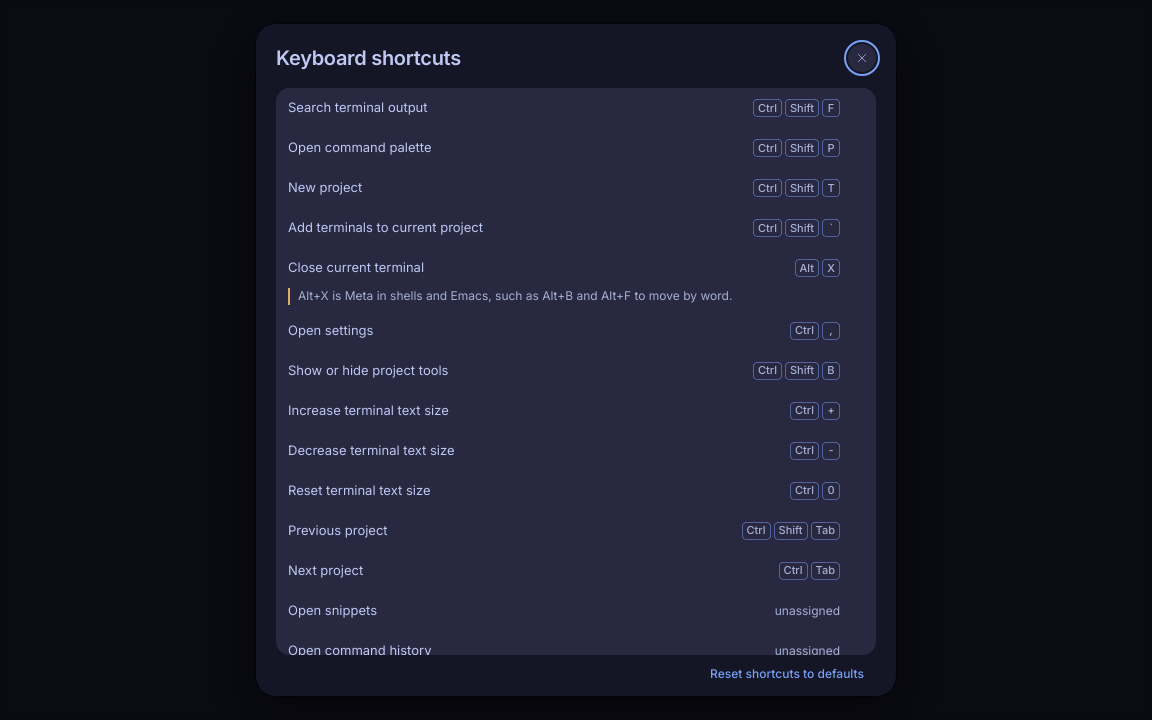
Test case: ShortcutEditor › clears an assigned shortcut with Backspace
Click the button with aria-label "close current terminal (currently Alt+X)".
click(824, 268)  # box [780,254,868,282]
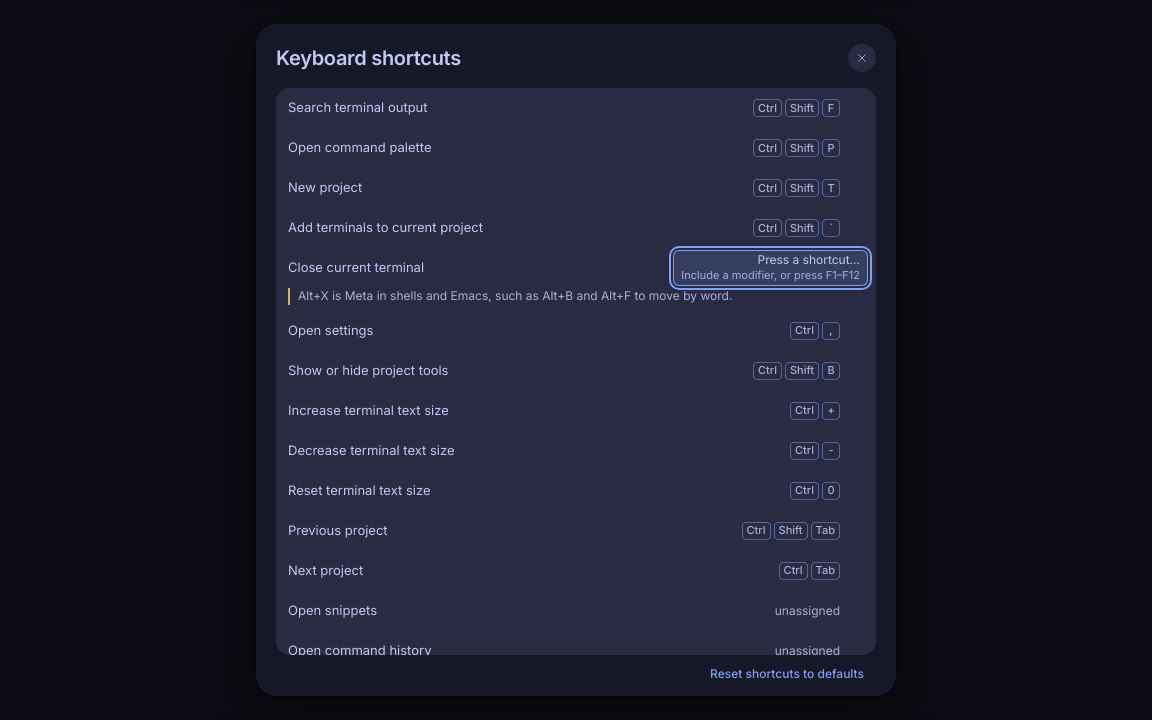
Press Backspace in the field named "press a shortcut for close current terminal", box [673,250,868,286]
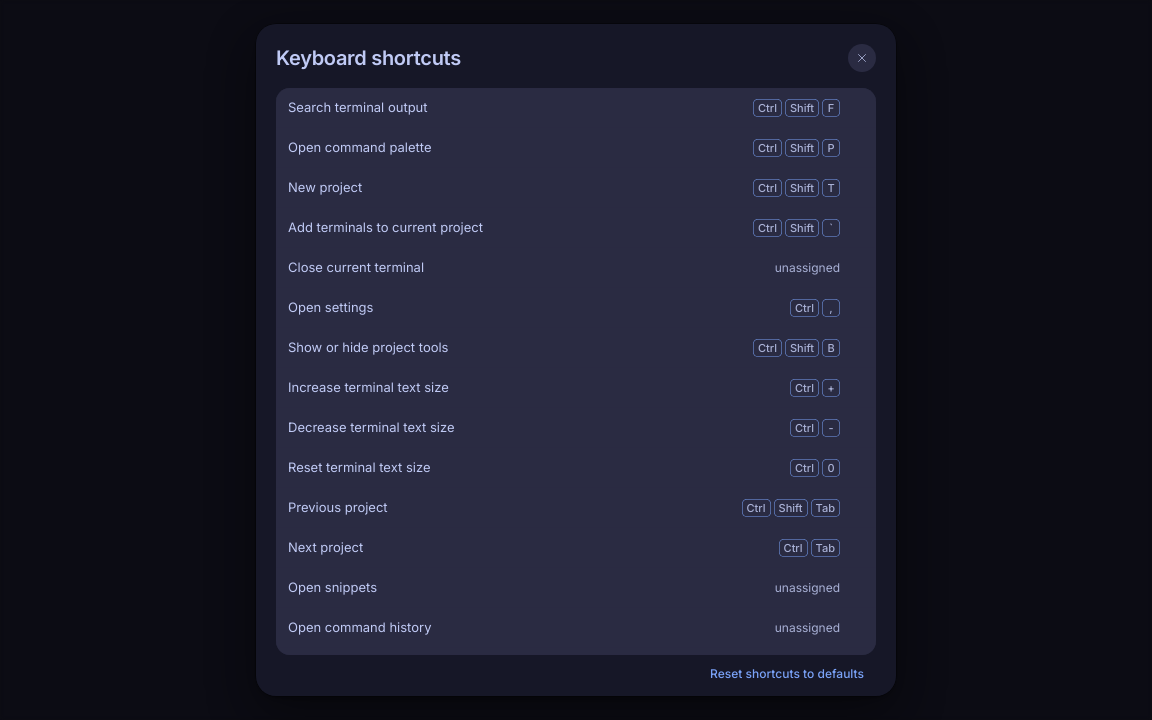
Expected: the button with aria-label "close current terminal (currently unassigned)" is shown, [767,254,868,282]
